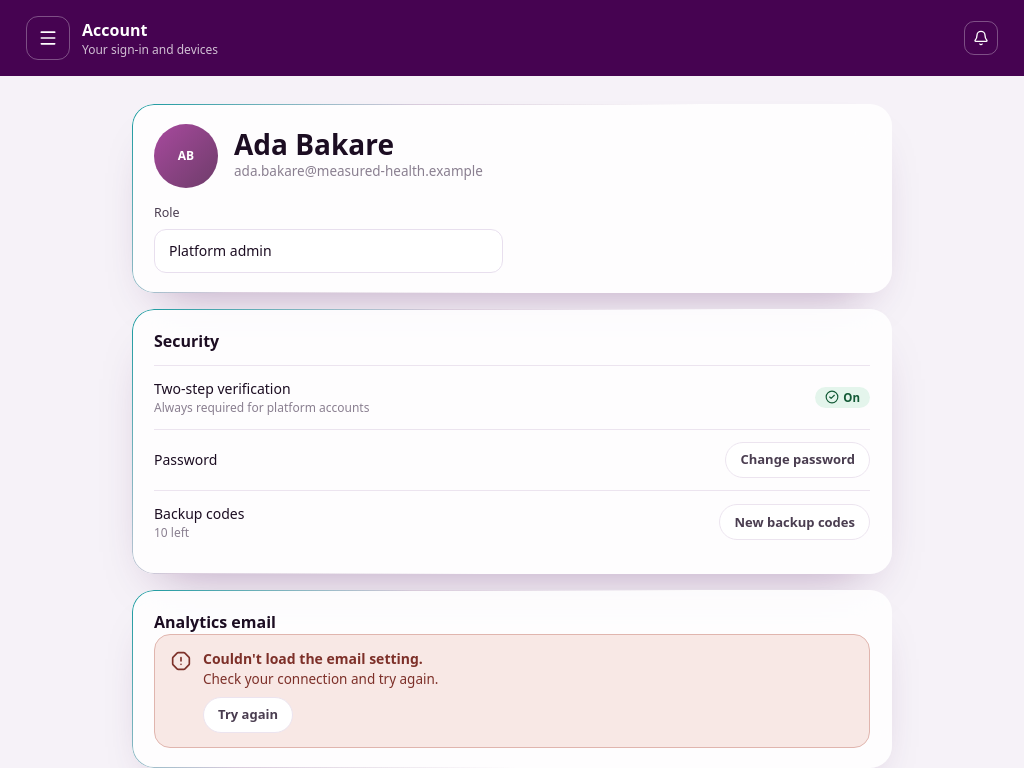
Scenario: Account actions › changing the password shows a confirmation and closes
Click the button "Change password".
click(798, 460)  # box [725,442,870,478]
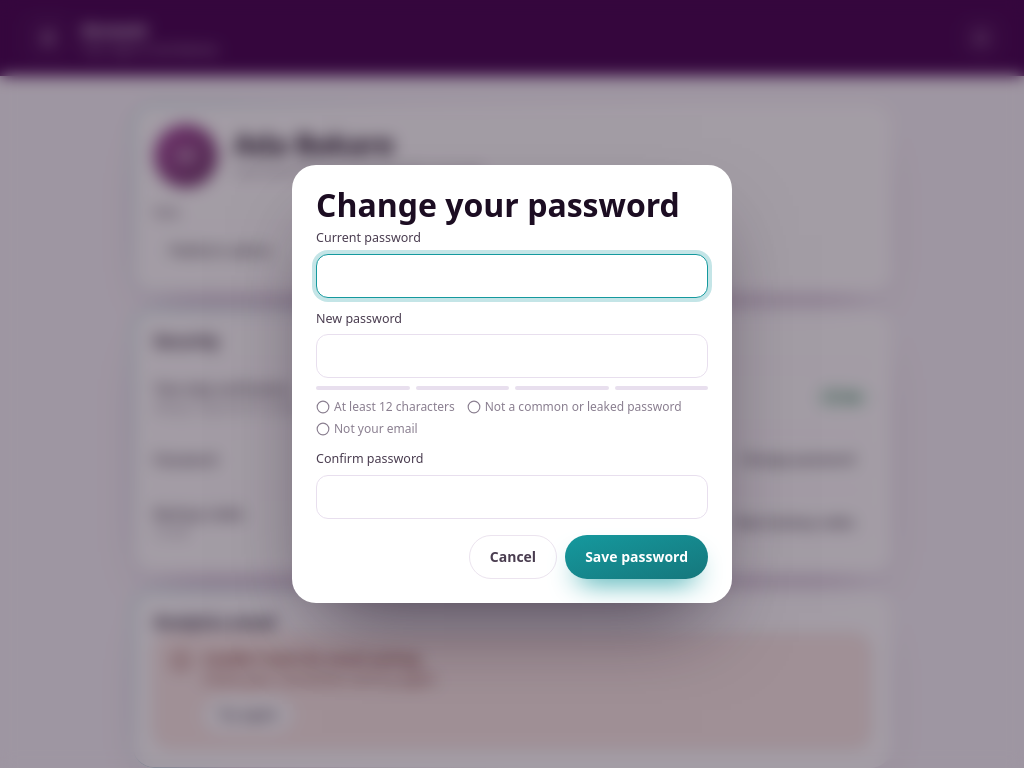
Type "old-password-1" into the password field labelled "Current password".
click(512, 276); type("old-password-1")  # box [316,254,708,298]
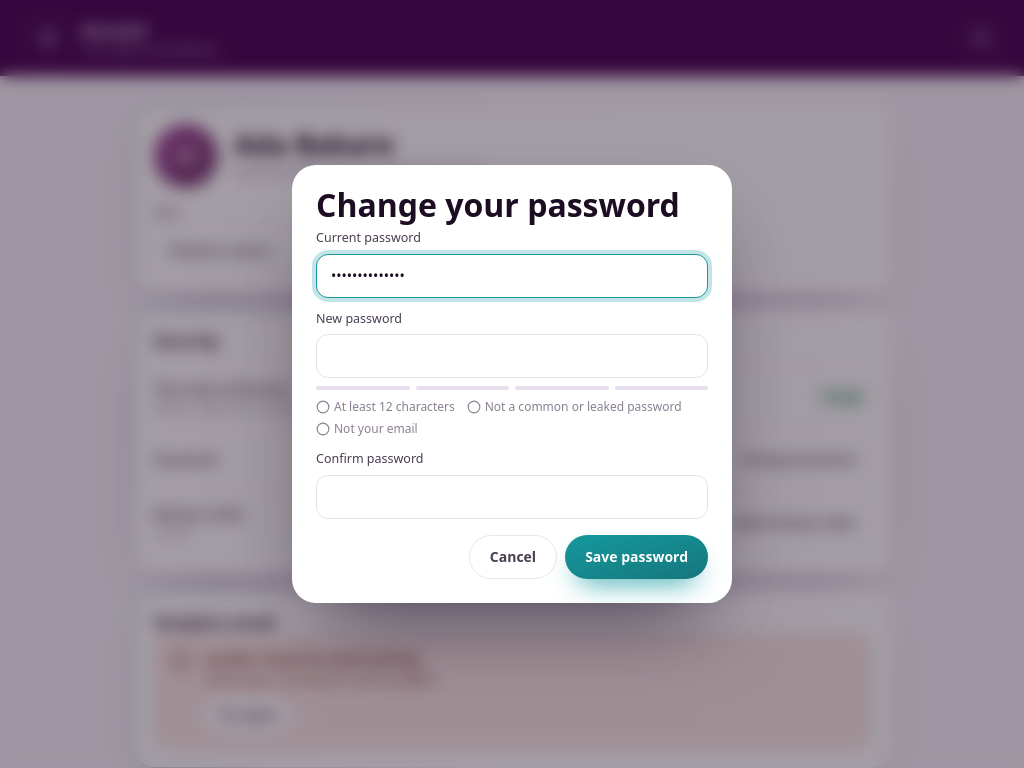
Type "Violet-river-lamp-42" into the password field labelled "New password".
click(512, 356); type("Violet-river-lamp-42")  # box [316,334,708,378]
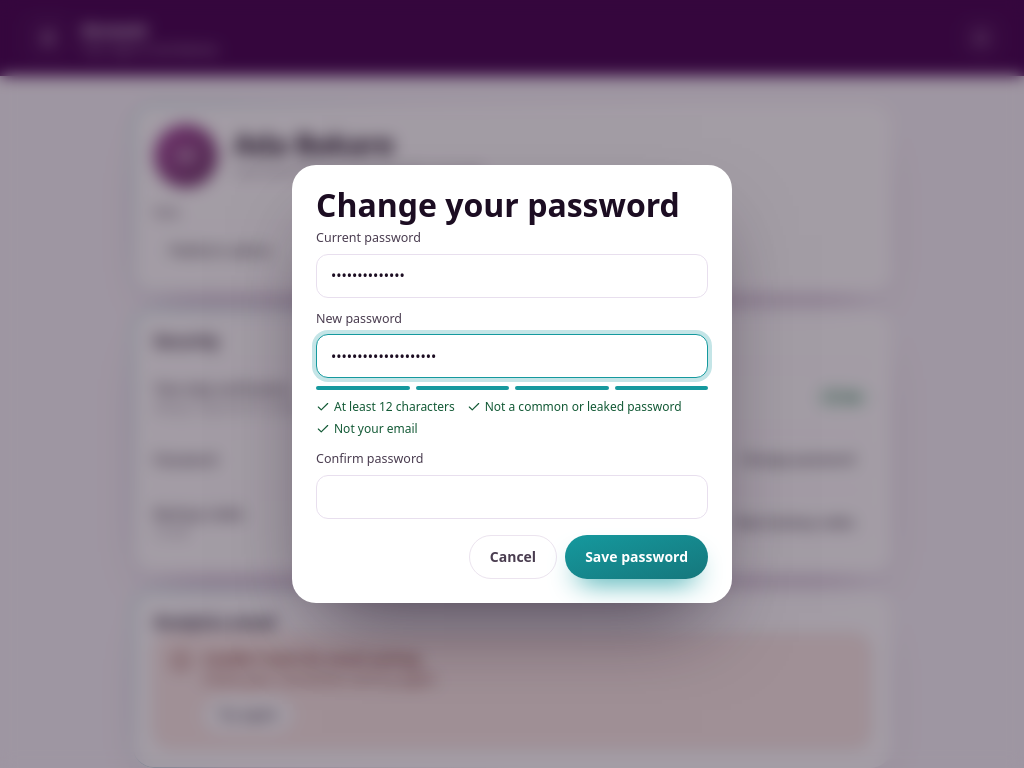
Type "Violet-river-lamp-42" into the password field labelled "Confirm password".
click(512, 497); type("Violet-river-lamp-42")  # box [316,475,708,519]
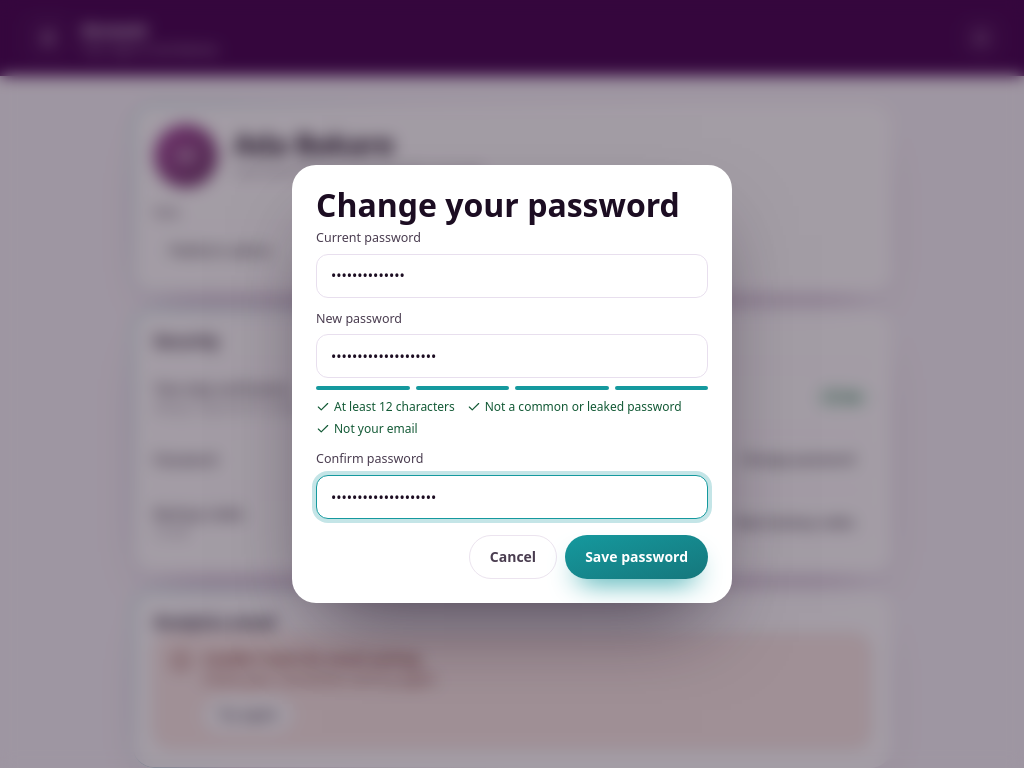
Click the button "Save password".
click(637, 557)  # box [565,535,708,579]
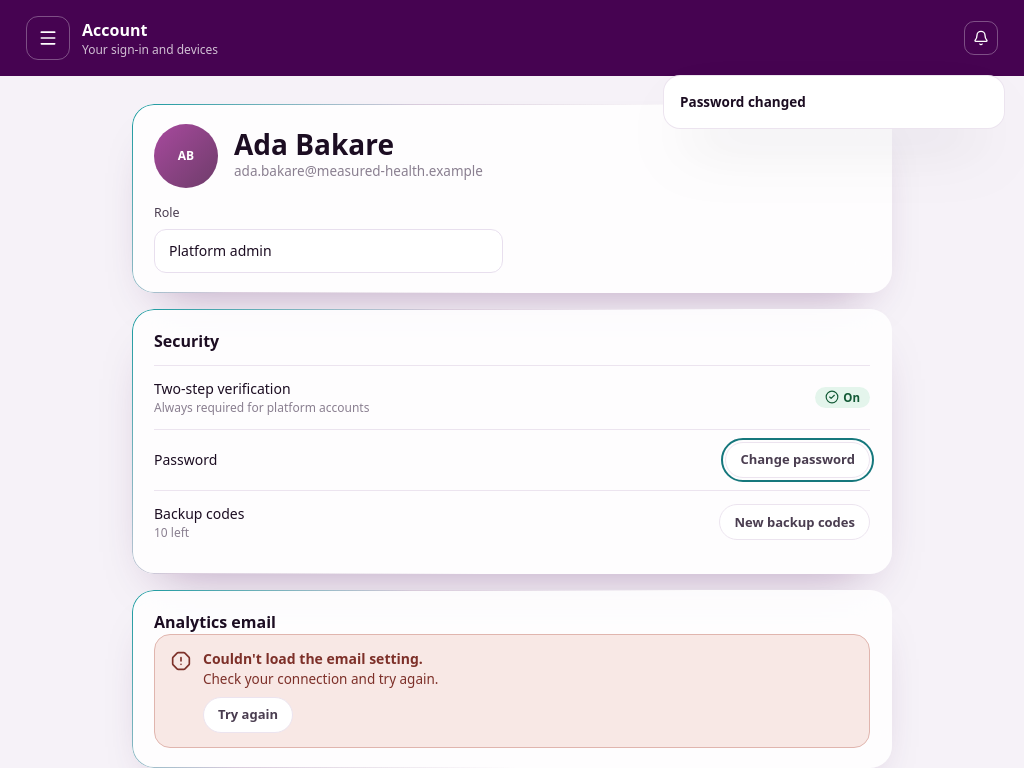
Expected: the text "Password changed" is shown, [680,93,806,111]
Expected: the label labelled "Current password" is gone
